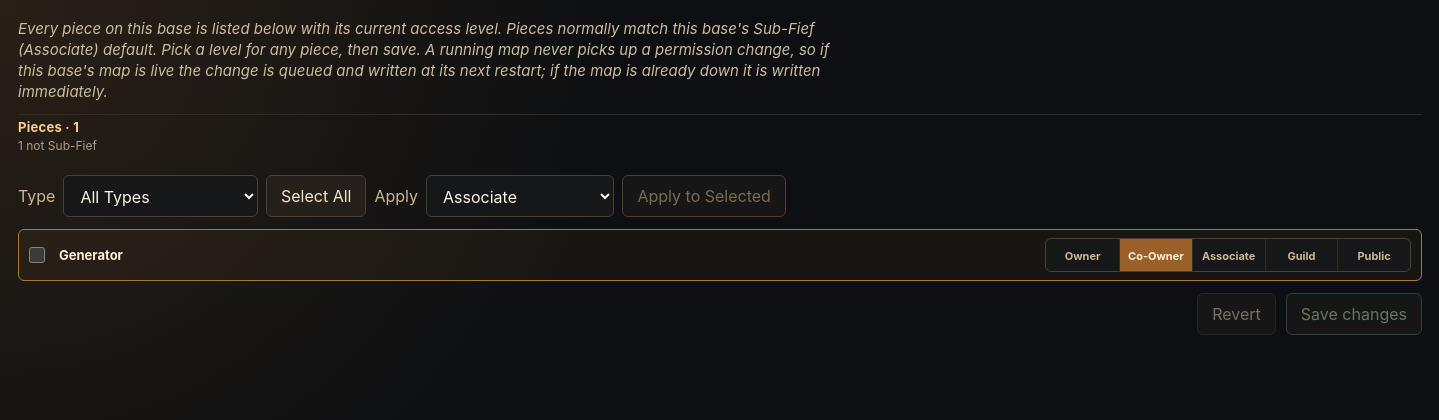
Scenario: BaseChildPermissionsTab › selecting a segment only updates local draft until Save is clicked
This screenshot has width=1439, height=420.
Click the radio button with aria-label "Associate for Generator": (1228, 256) [1192,239,1265,273]
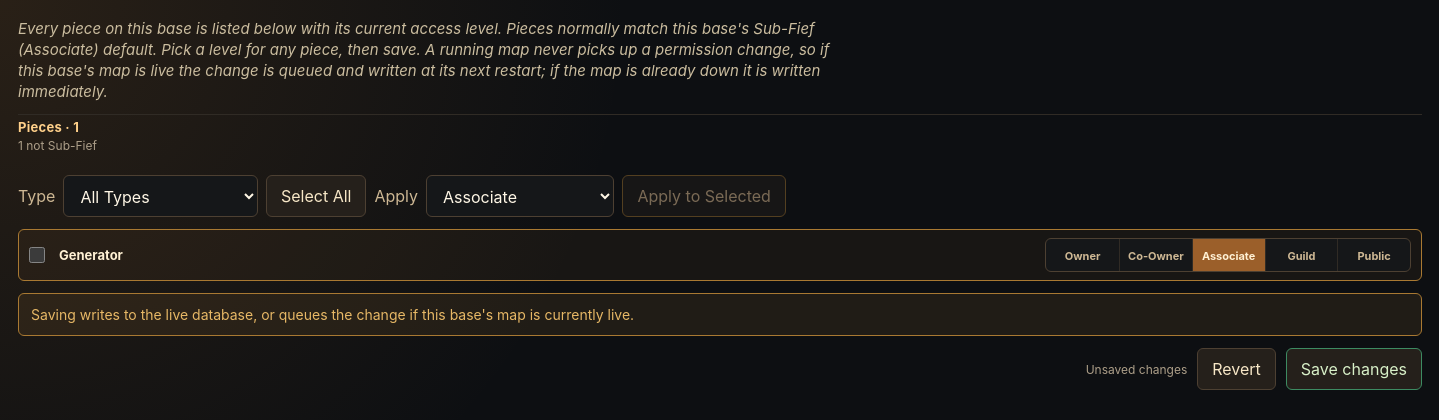
Check: the radio button with aria-label "Associate for Generator" is checked, box [1192,239,1265,272]
Check: the button "Save changes" is enabled, box [1286,348,1422,390]
